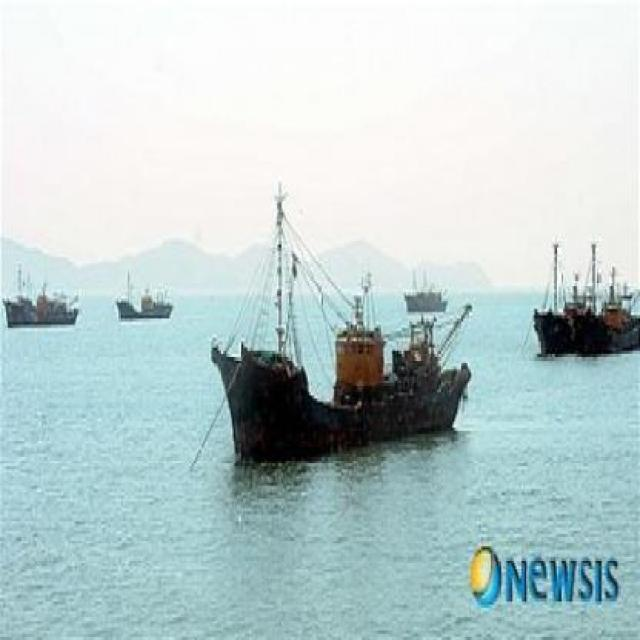fish-b: (193, 161, 494, 493)
